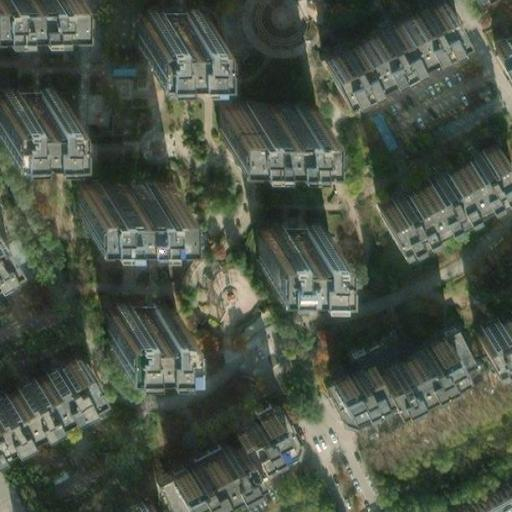building: (333, 330, 469, 424), (370, 139, 508, 231), (319, 0, 450, 83), (148, 444, 284, 512), (0, 352, 80, 426), (157, 438, 241, 500), (367, 333, 446, 389), (216, 97, 314, 137), (76, 175, 172, 213), (256, 215, 324, 267), (137, 3, 200, 51), (103, 300, 168, 346), (0, 77, 49, 124), (466, 297, 512, 347), (228, 418, 279, 463), (321, 351, 371, 394), (463, 481, 512, 511), (487, 26, 512, 66), (476, 330, 512, 355), (107, 496, 143, 512)
